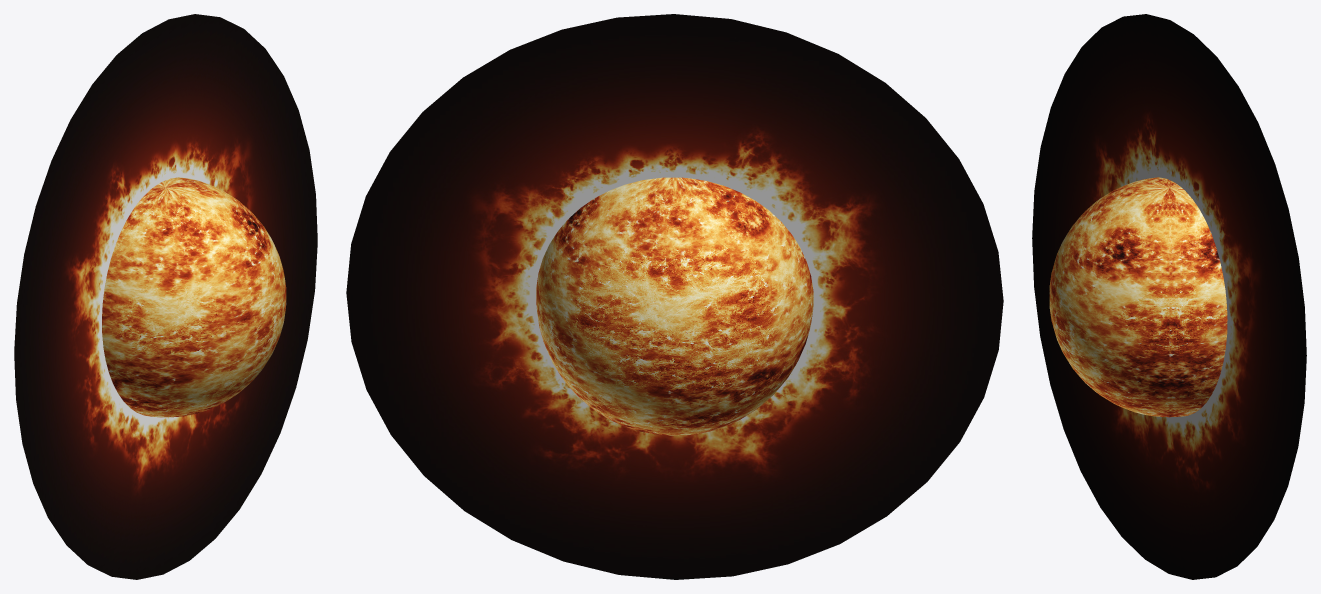
File: C4d_sun_v01.fbx
3 views of the same model, side by side, from view 1: azimuth 30°, elevation 25°; view 2: azimuth 150°, elevation 25°; view 3: azimuth 270°, elevation 25° (orthographic). The views are drawn at different scales.
Parts seen in each view (by area): view 1: Ring, Chromosphere_3; view 2: Ring, Chromosphere_3; view 3: Ring, Chromosphere_3.
Part boxes in pixels (box(x1,y1,x2,y2)): Ring: box(14, 14, 317, 579); Chromosphere_3: box(102, 177, 286, 417); Ring: box(346, 14, 1003, 579); Chromosphere_3: box(536, 177, 813, 435); Ring: box(1032, 14, 1306, 579); Chromosphere_3: box(1049, 177, 1227, 417).
Size of the model in its own units: 19891 by 22487 by 10893.
Materials: 6 (2 with a texture image).
